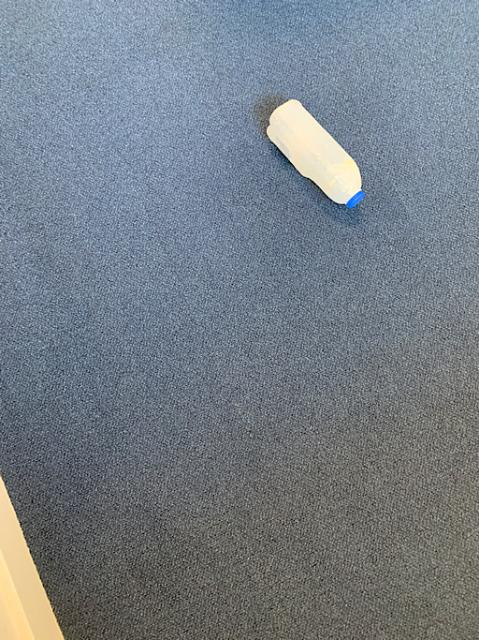plastic: (266, 98, 364, 206)
